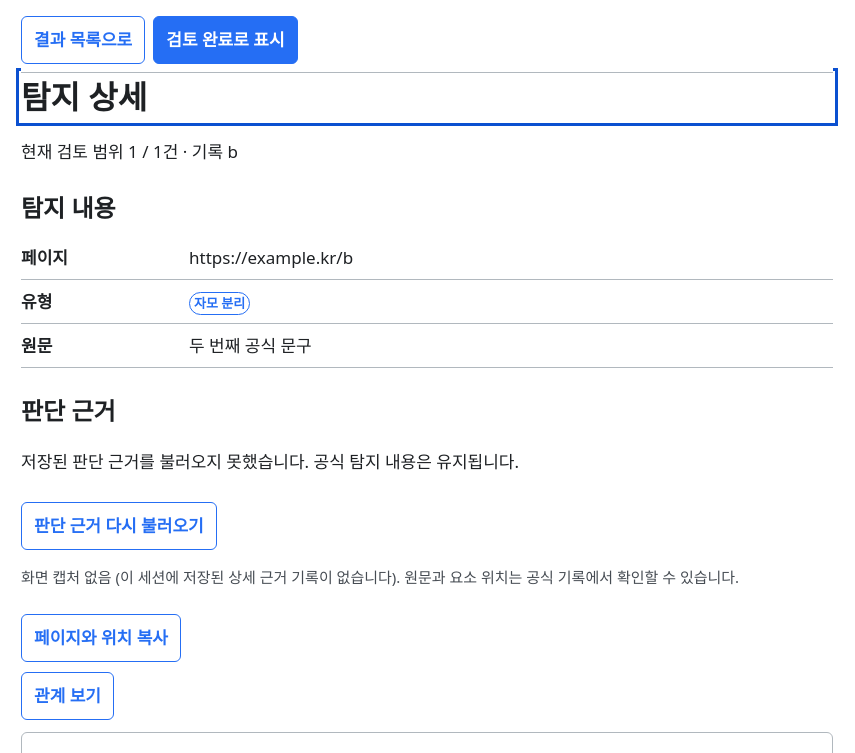
it: operator evidence read recovery › retries detail alone and excludes delayed metadata from a previous selection
Expected: the message "저장된 판단 근거를 불러오지 못했습니다. 공식 탐지 내용은 유지됩니다." is shown, [21,450,519,472]
Click the button "판단 근거 다시 불러오기": (119, 526) [21,502,217,550]
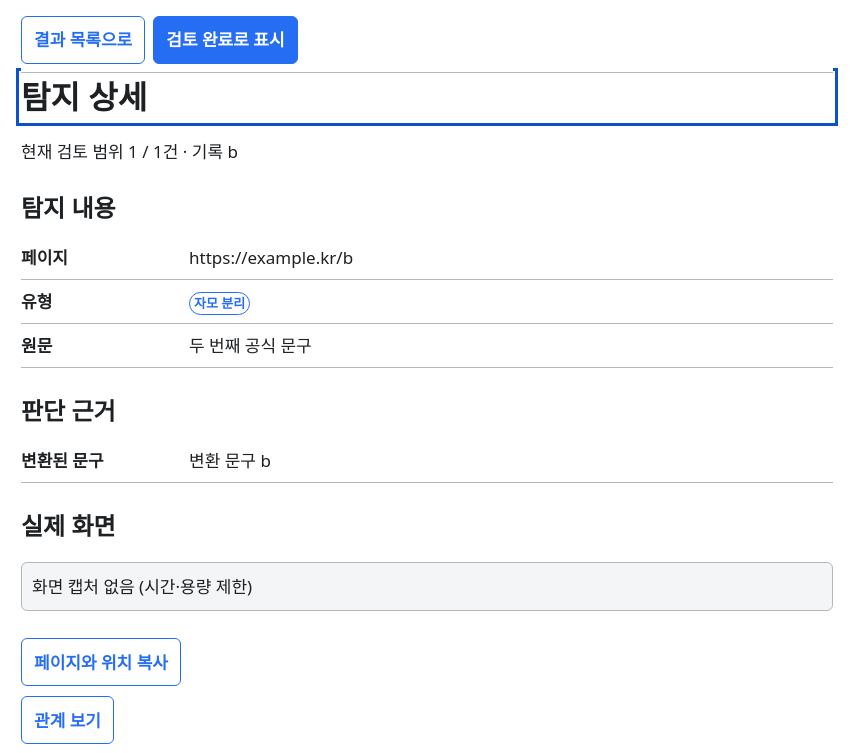
Expected: the text "변환 문구 b" is shown, [189,448,271,472]
